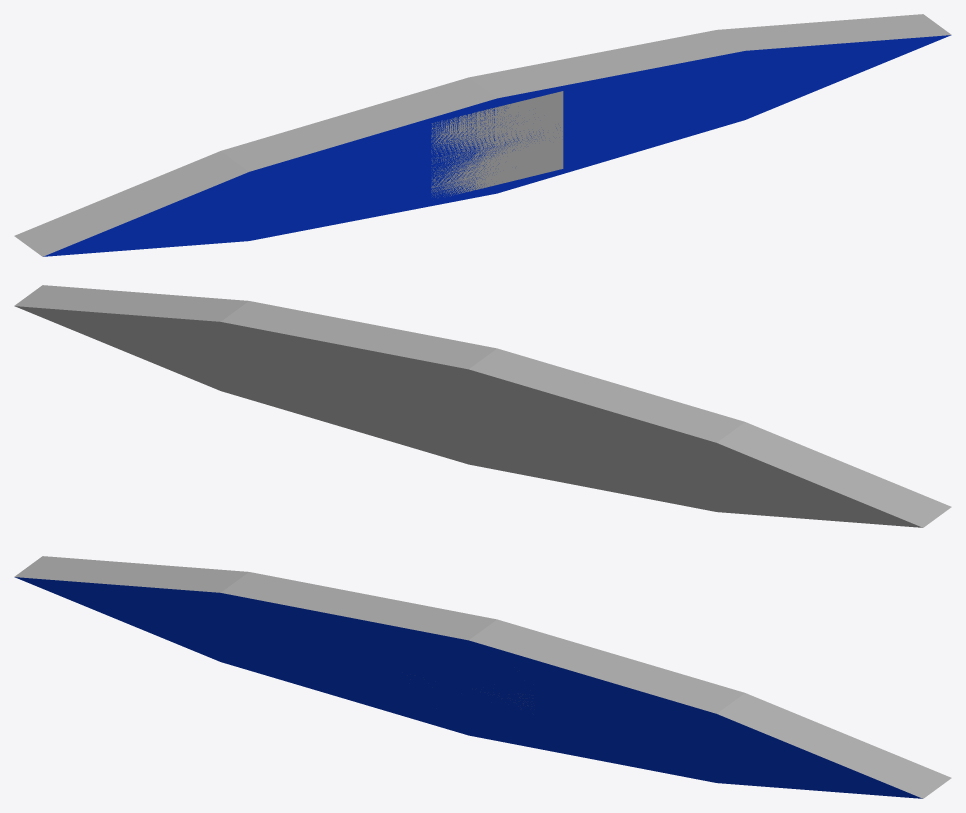
Rendered from kayak.obj.
The picture shows the model from 3 angles, top to bottom: view 1: azimuth 30°, elevation 25°; view 2: azimuth 150°, elevation 25°; view 3: azimuth 330°, elevation 25°; orthographic projection.
Parts seen in each view (by area): view 1: Kayak; view 2: Kayak; view 3: Kayak.
Part boxes in pixels (x1,y1,x2,y2): Kayak: [14, 14, 951, 256]; Kayak: [14, 285, 951, 527]; Kayak: [14, 556, 951, 798].
Bounding box in the file's own units: 5.5 × 0.55 × 0.3.
